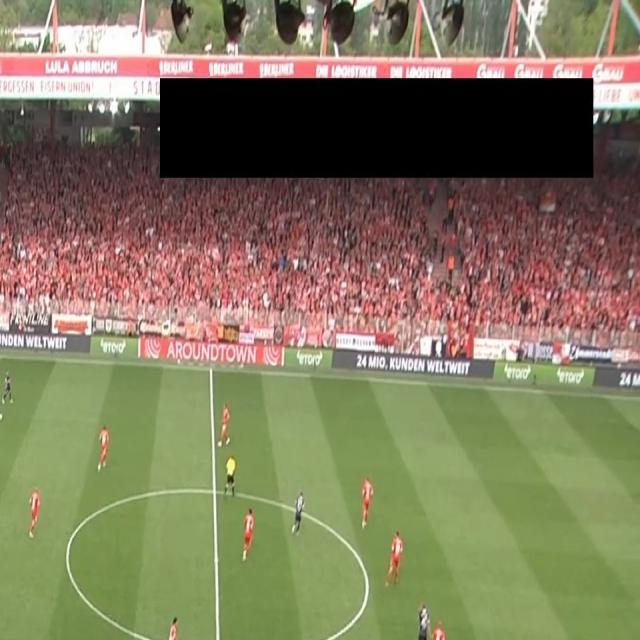ball: (0, 410, 3, 422)
